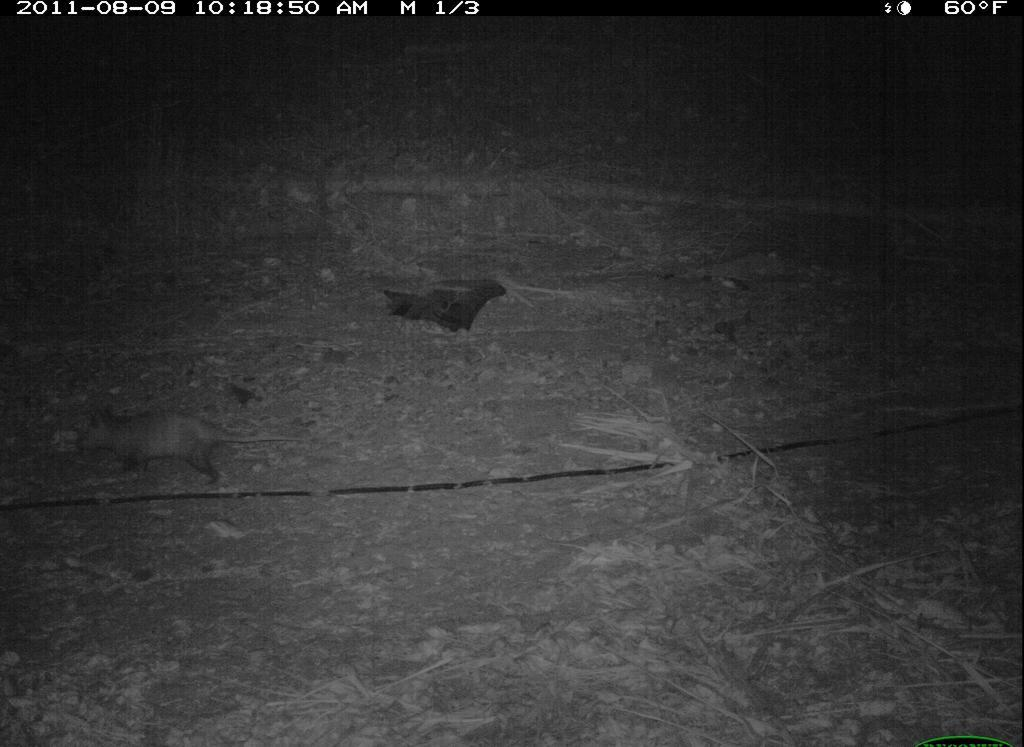opossum: (57, 388, 306, 496)
